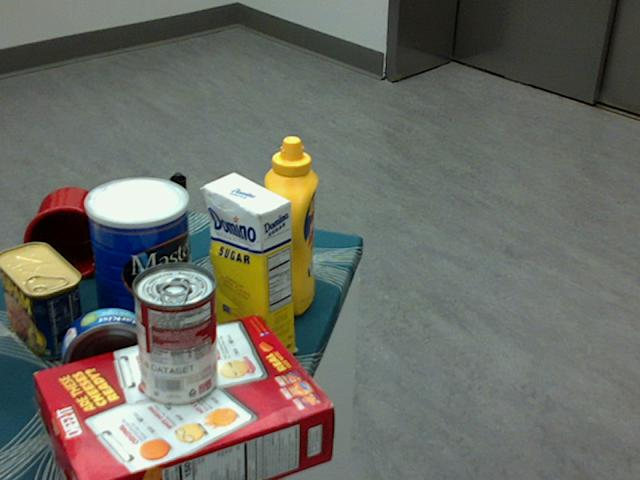cracker_box: (35, 316, 334, 479)
large_marker: (169, 172, 190, 268)
master_chef_can: (83, 177, 191, 340)
mug: (17, 187, 108, 281)
mustard_bottle: (261, 135, 316, 315)
potted_meat_can: (0, 241, 85, 359)
sugar_box: (203, 171, 294, 366)
tomato_soup_can: (131, 263, 215, 406)
tuna_fish_can: (61, 308, 157, 401)
